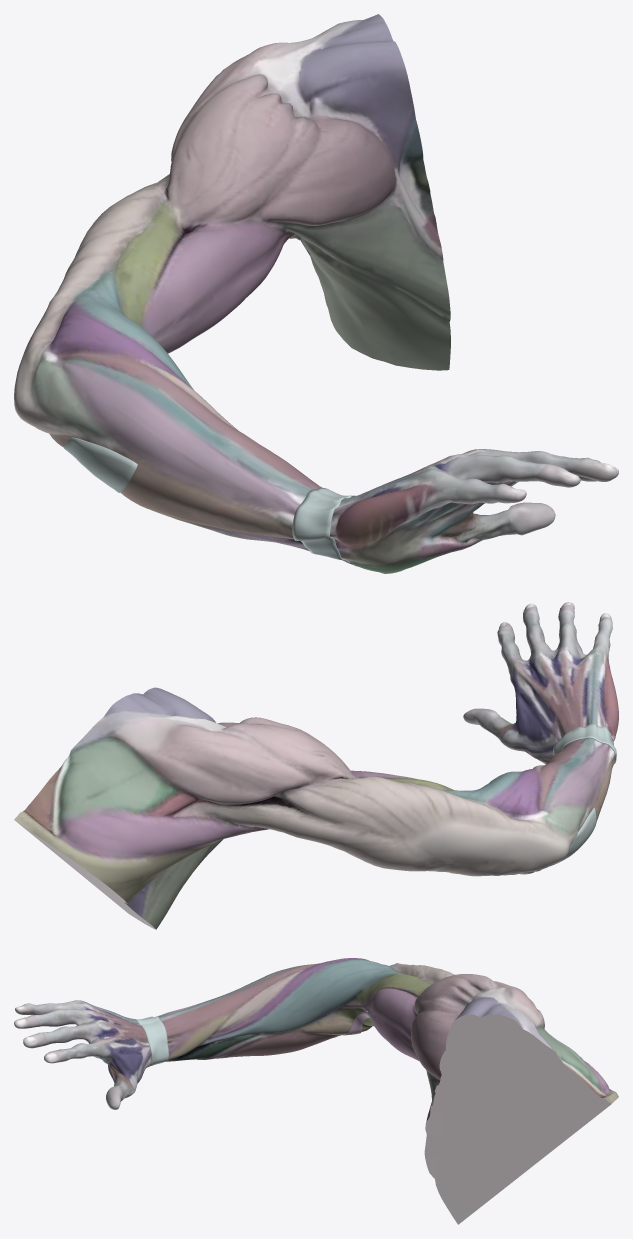
File: 人物其它_Muscle man sections_Bent_right_arm_opt.glb
3 views of the same model, one above another, from view 1: azimuth 30°, elevation 25°; view 2: azimuth 150°, elevation 25°; view 3: azimuth 270°, elevation 25° (orthographic). The views are drawn at different scales.
Parts seen in each view (by area): view 1: Left_arm_2, Lig_Left_arm_2; view 2: Left_arm_2, Lig_Left_arm_2; view 3: Left_arm_2, Lig_Left_arm_2.
Part boxes in pixels (x1=…): Left_arm_2: x1=14, y1=14, x2=618, y2=573; Lig_Left_arm_2: x1=64, y1=437, x2=356, y2=564; Left_arm_2: x1=14, y1=602, x2=618, y2=929; Lig_Left_arm_2: x1=551, y1=723, x2=616, y2=865; Left_arm_2: x1=14, y1=958, x2=618, y2=1224; Lig_Left_arm_2: x1=134, y1=1011, x2=369, y2=1066.
Size of the model in its own units: 0.2513 by 0.1459 by 0.3978.
2 materials, 2 textured.
